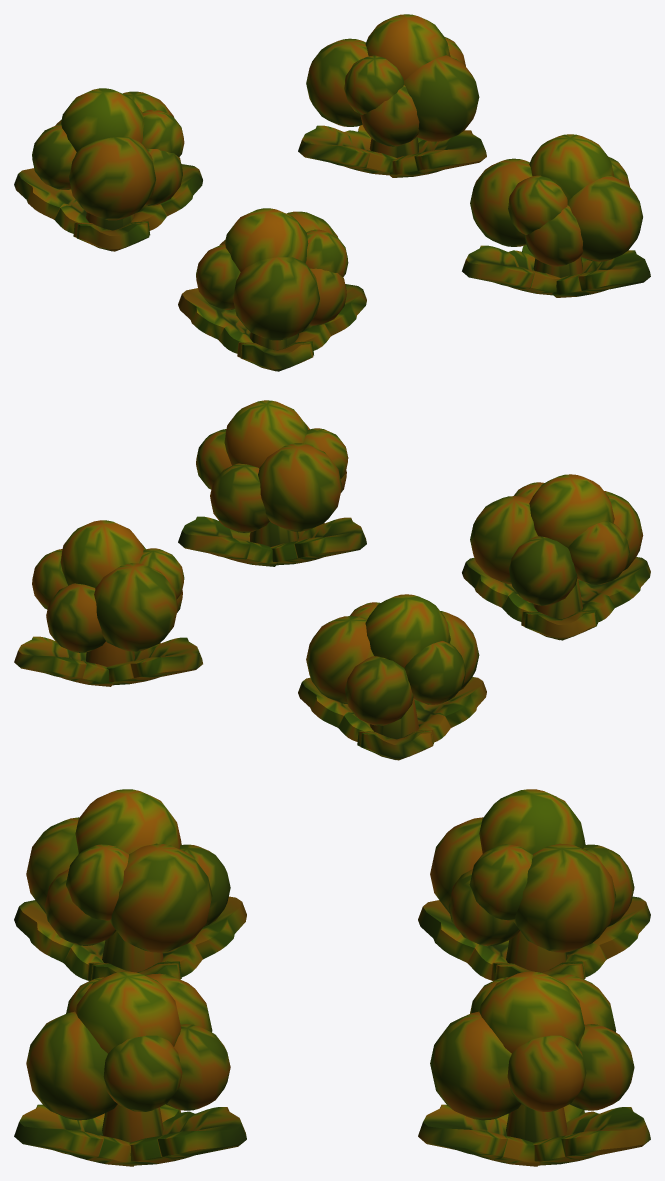
Rendered from Farm_Crop_Broccoli_Dead.glb.
The picture shows the model from 3 angles, top to bottom: view 1: azimuth 30°, elevation 25°; view 2: azimuth 150°, elevation 25°; view 3: azimuth 270°, elevation 25°; orthographic projection. The views are drawn at different scales.
Visible parts, largest first — view 1: Farm_Crop_Broccoli_Dead; view 2: Farm_Crop_Broccoli_Dead; view 3: Farm_Crop_Broccoli_Dead.
Part boxes in pixels (<box>): Farm_Crop_Broccoli_Dead: <box>14,14,650,371</box>; Farm_Crop_Broccoli_Dead: <box>14,400,650,760</box>; Farm_Crop_Broccoli_Dead: <box>14,789,650,1166</box>.
Bounding box in the file's own units: 1.5 × 0.5273 × 1.58.
1 material, 1 textured.
